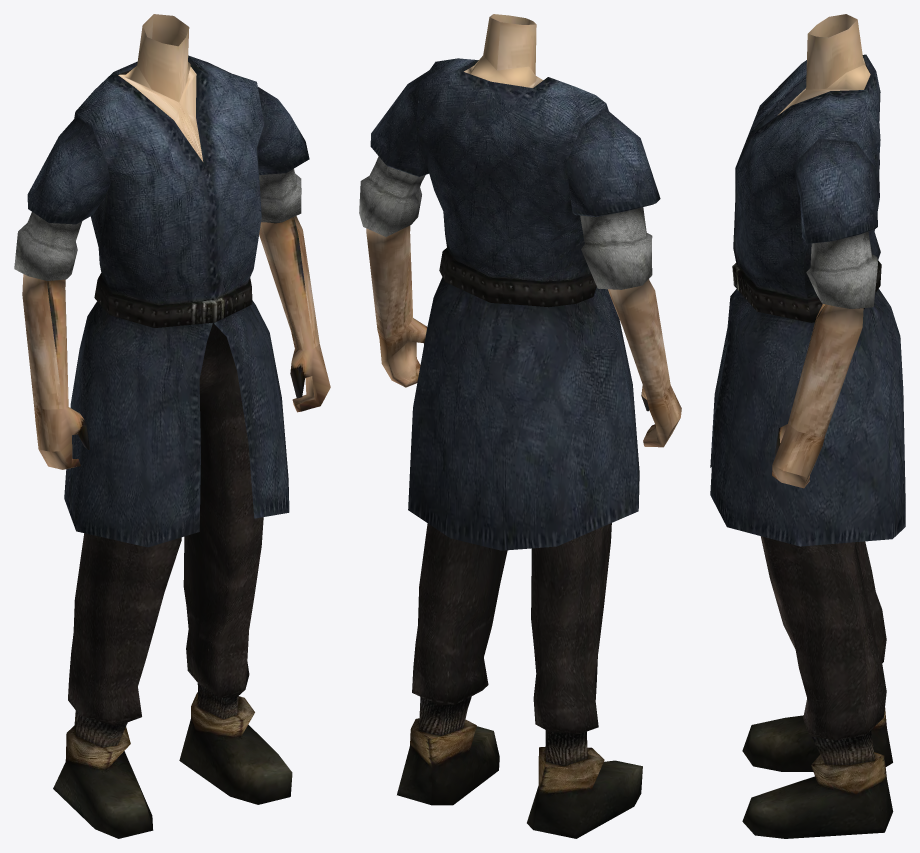
File: SDRP_OSADA_PRACOWNICZKA.glb
3 views of the same model, side by side, from view 1: azimuth 30°, elevation 25°; view 2: azimuth 150°, elevation 25°; view 3: azimuth 270°, elevation 25° (orthographic). The views are drawn at different scales.
Visible parts, largest first — view 1: SDRP_OSADA_PRACOWNICZKA; view 2: SDRP_OSADA_PRACOWNICZKA; view 3: SDRP_OSADA_PRACOWNICZKA.
Part boxes in pixels (x1,y1,x2,y2): SDRP_OSADA_PRACOWNICZKA: (14, 14, 330, 838); SDRP_OSADA_PRACOWNICZKA: (359, 14, 681, 838); SDRP_OSADA_PRACOWNICZKA: (710, 14, 905, 838).
Bounding box in the file's own units: 0.6425 × 1.68 × 0.3841.
Materials: 2 (2 with a texture image).
